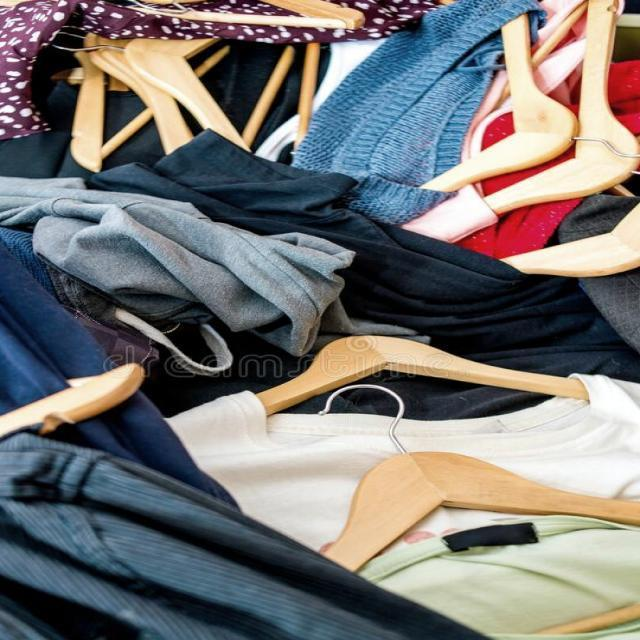clothes: (50, 76, 581, 640)
